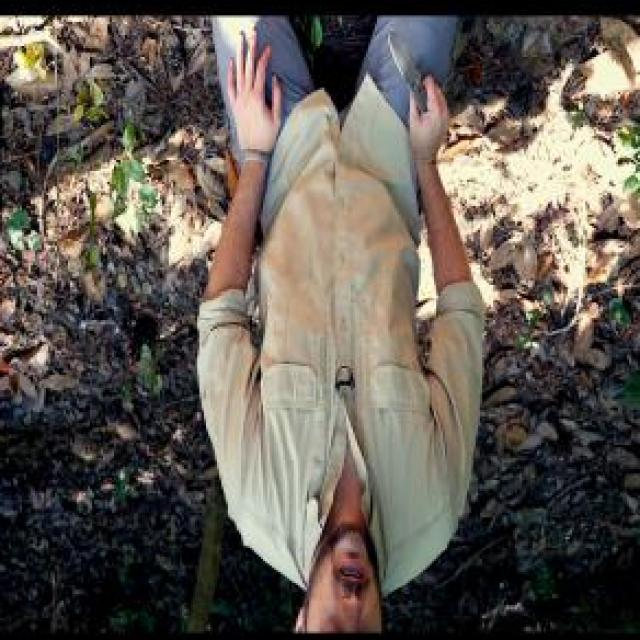knife: (384, 21, 454, 147)
